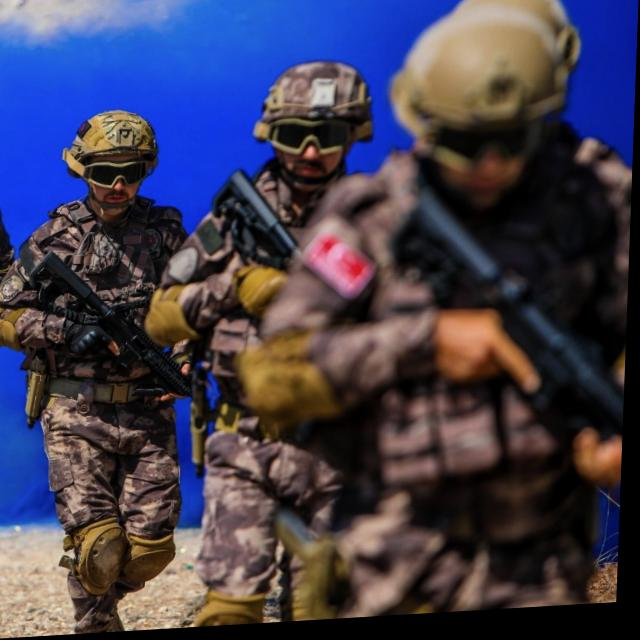poh_personel: (238, 2, 639, 628), (140, 64, 377, 632), (0, 109, 198, 640)
